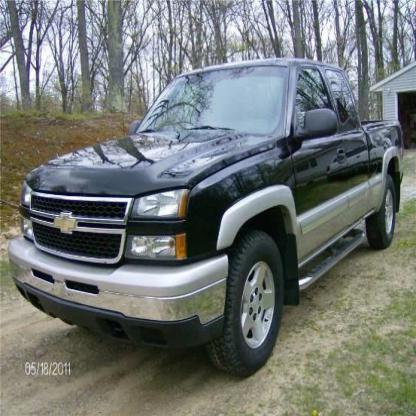Vehicle: (10, 62, 401, 378)
